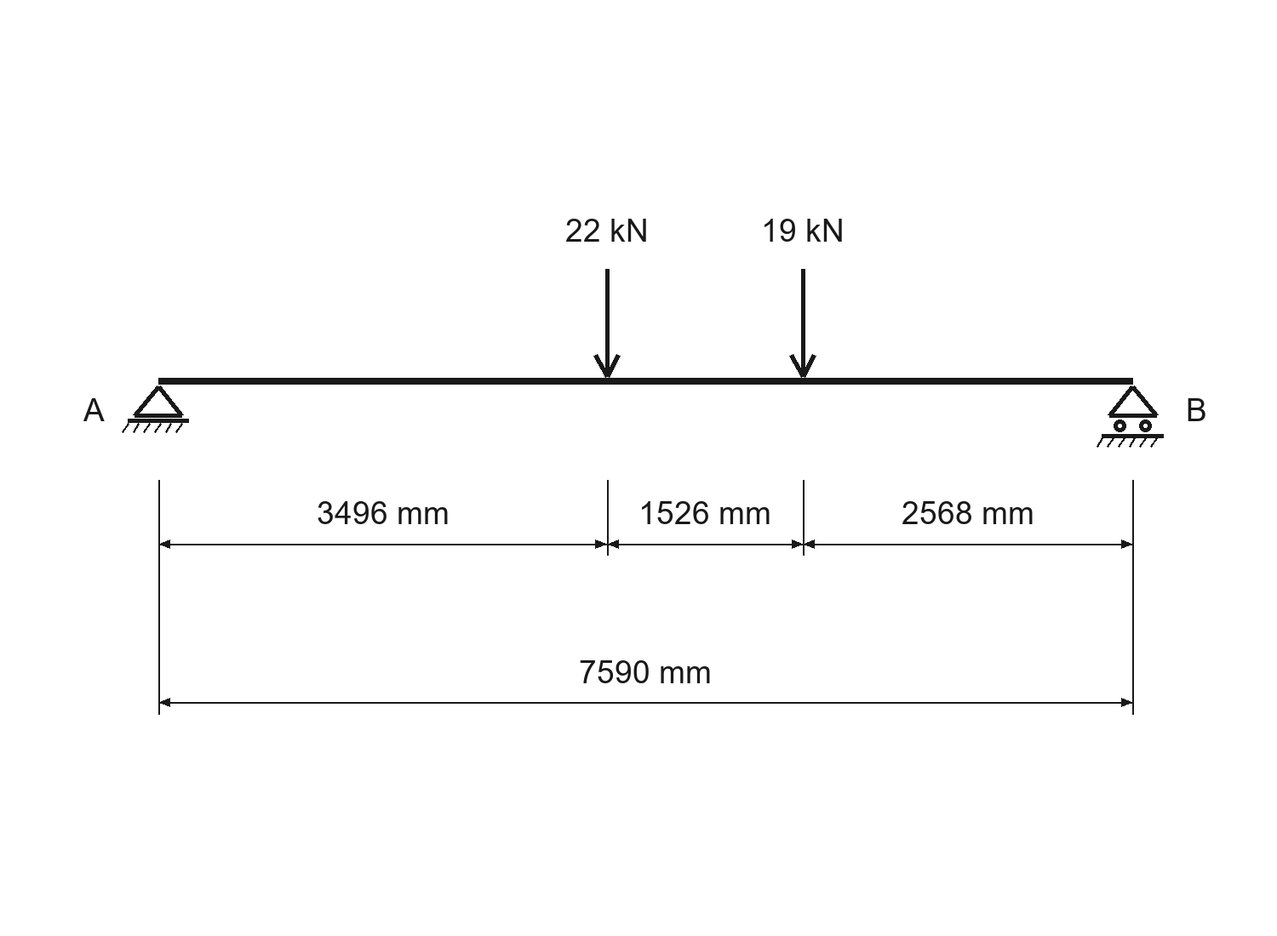pin_support: (122, 385, 189, 433)
point_load: (593, 269, 621, 378), (789, 269, 816, 378)
roller_support: (1097, 385, 1164, 448)
